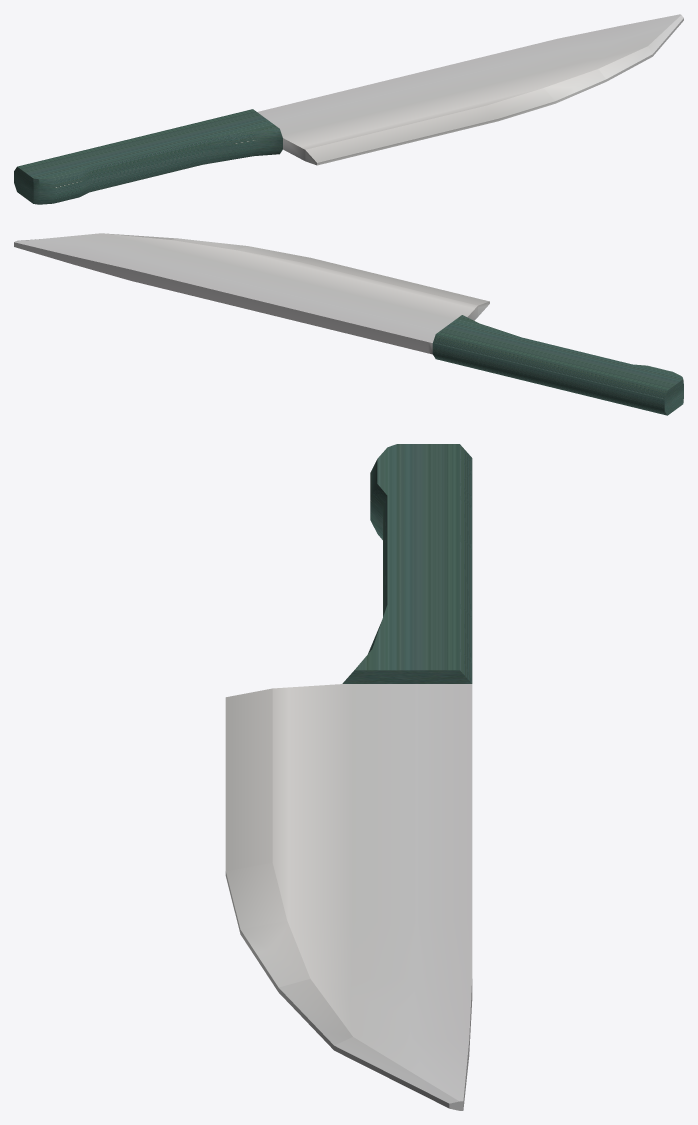
File: knife.fbx
3 renders of one model, top to bottom at view 1: azimuth 30°, elevation 25°; view 2: azimuth 150°, elevation 25°; view 3: azimuth 270°, elevation 25°, orthographic. The views are drawn at different scales.
Parts seen in each view (by area): view 1: pPlane1; view 2: pPlane1; view 3: pPlane1.
Boxes of the visible parts, bbox=[...] form: pPlane1: bbox=[14, 14, 683, 204]; pPlane1: bbox=[14, 233, 683, 415]; pPlane1: bbox=[225, 444, 472, 1110].
Bounding box in the file's own units: 17.81 × 0.6536 × 2.91.
